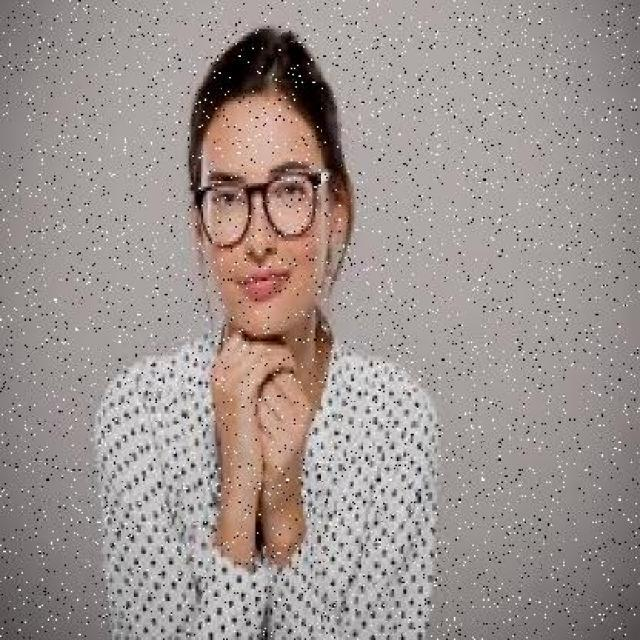mask: (192, 160, 334, 262)
